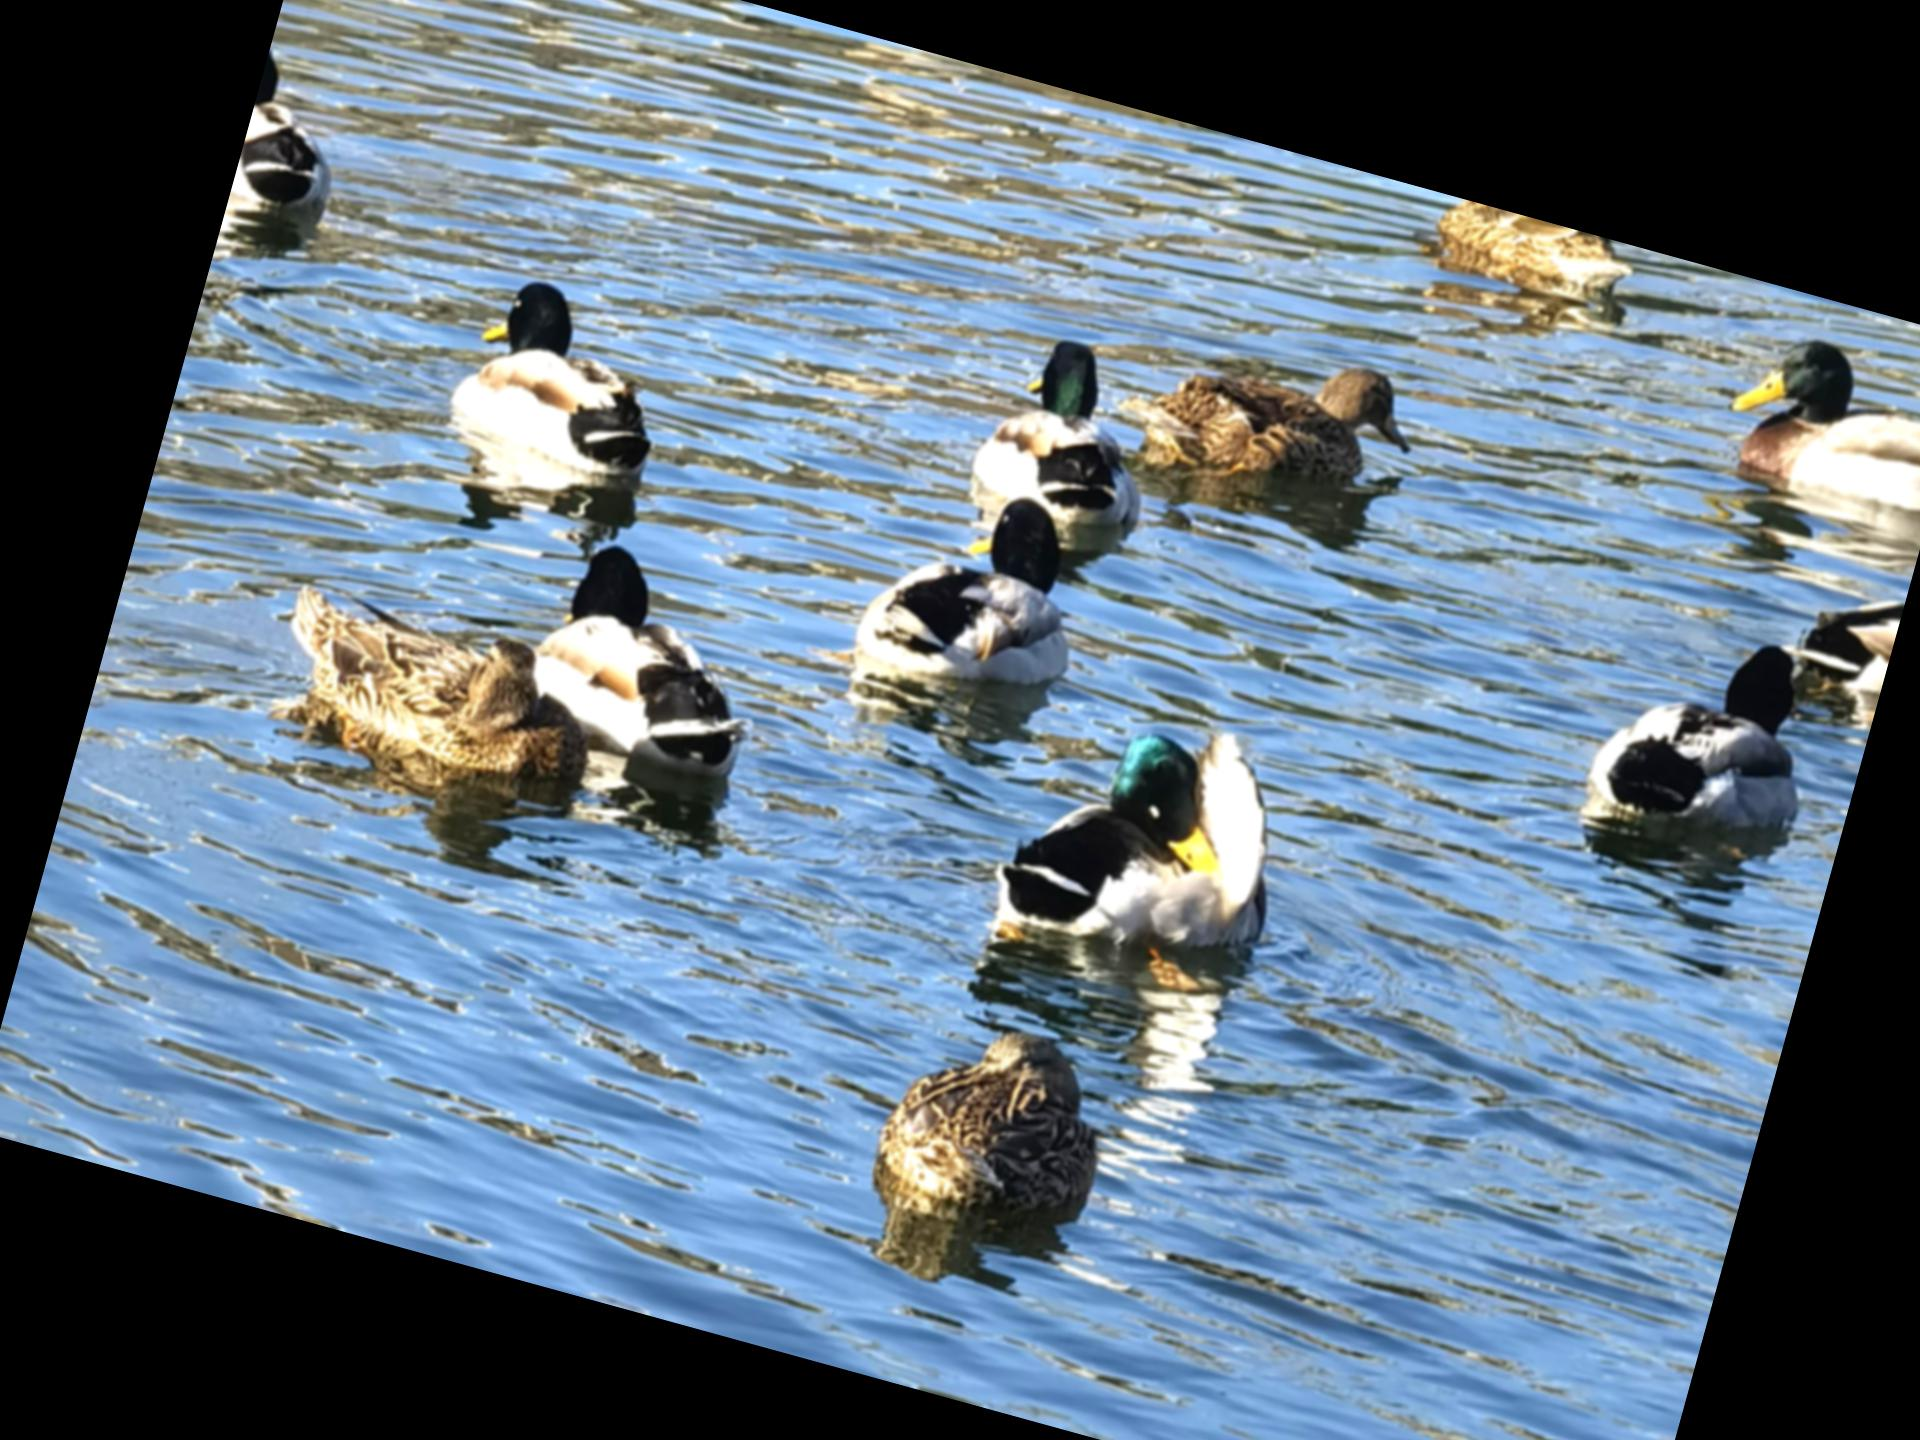duck: (962, 663, 1315, 1015), (240, 567, 627, 821), (828, 992, 1157, 1263), (1547, 584, 1835, 889), (416, 241, 703, 542), (821, 451, 1113, 743), (485, 520, 791, 799), (918, 303, 1193, 599), (1113, 293, 1430, 542), (1680, 306, 1920, 540), (212, 33, 373, 284), (1397, 188, 1634, 327)
